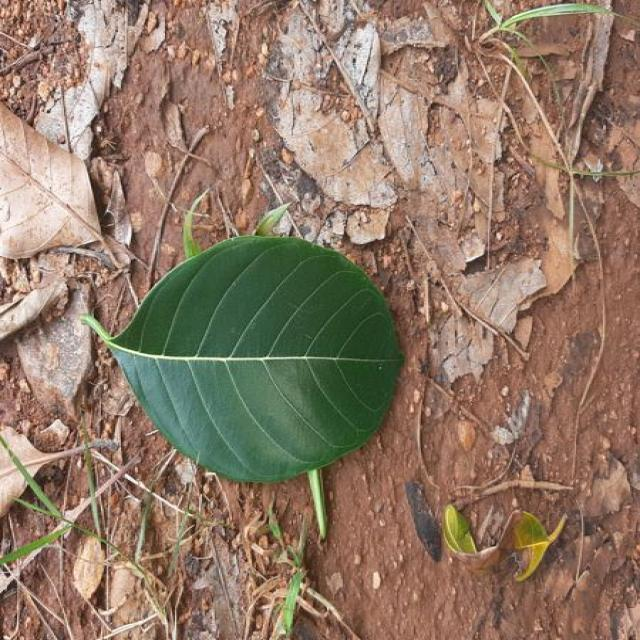Jackfruit: (107, 236, 403, 481)
